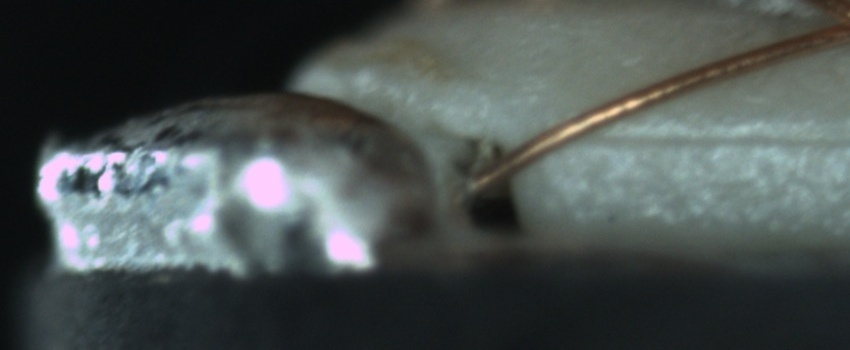CL: (770, 5, 850, 58)
DL: (575, 104, 843, 174)
